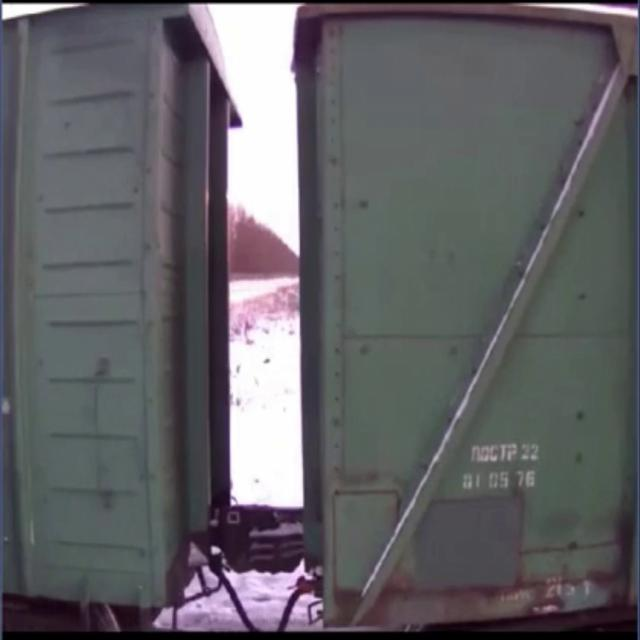boxcar: (0, 0, 261, 640)
